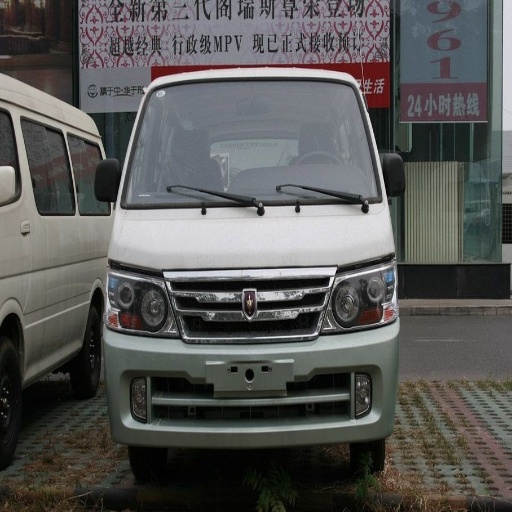front_bumper: (102, 267, 399, 446)
front_right_light: (109, 262, 174, 336)
hood: (113, 203, 392, 271)
